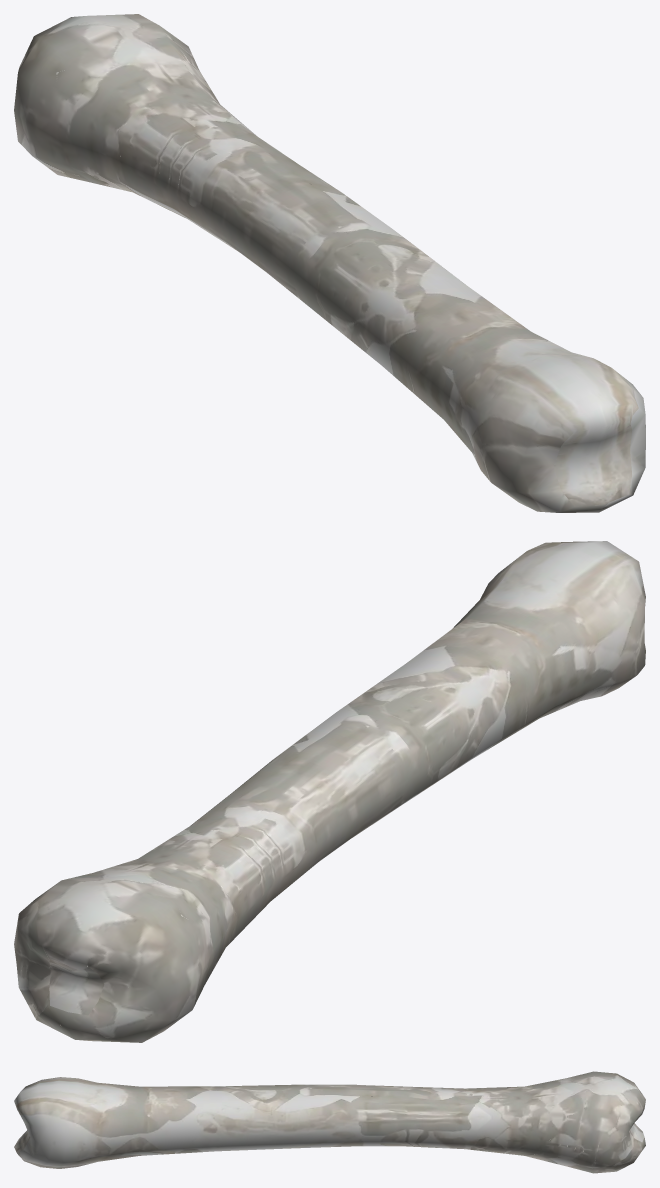
The picture shows the model from 3 angles, top to bottom: view 1: azimuth 30°, elevation 25°; view 2: azimuth 150°, elevation 25°; view 3: azimuth 270°, elevation 25°; orthographic projection. The views are drawn at different scales.
Parts seen in each view (by area): view 1: SM_BonePile_01_LOD0; view 2: SM_BonePile_01_LOD0; view 3: SM_BonePile_01_LOD0.
Boxes of the visible parts, x1,y1,x2,y2 form: SM_BonePile_01_LOD0: (14,14,645,512); SM_BonePile_01_LOD0: (14,541,645,1042); SM_BonePile_01_LOD0: (14,1071,645,1173).
Size of the model in its own units: 0.1163 by 0.0938 by 0.641.
